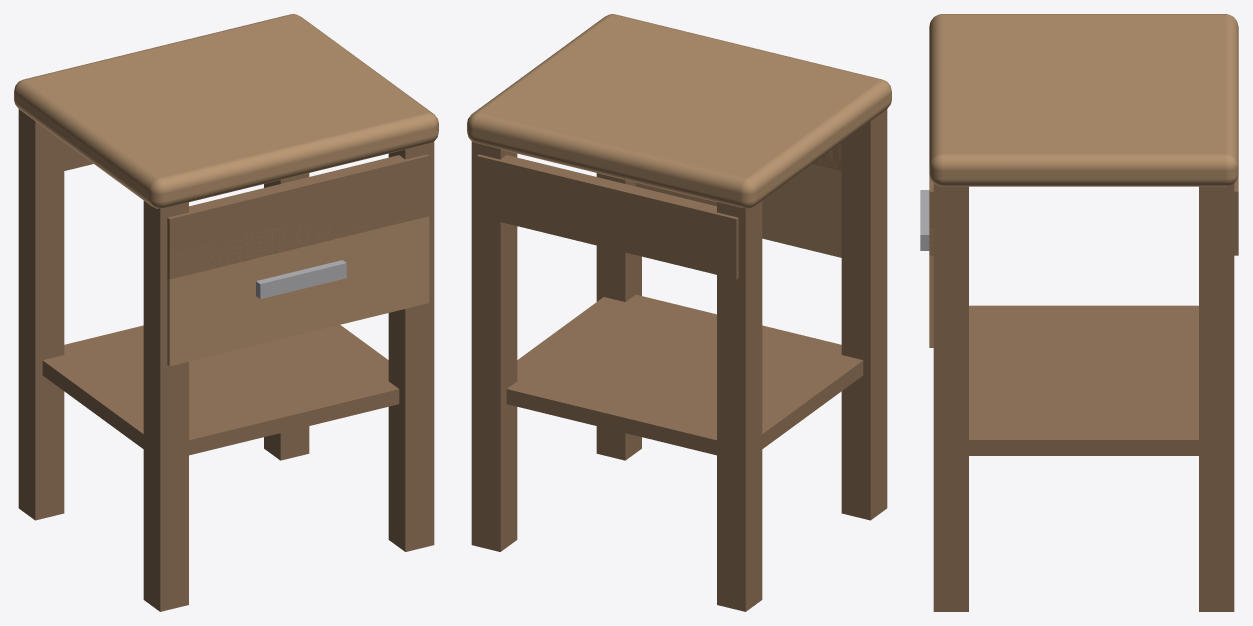
The model's file is nightstand.glb.
3 views of the same model, side by side, from view 1: azimuth 30°, elevation 25°; view 2: azimuth 150°, elevation 25°; view 3: azimuth 270°, elevation 25° (orthographic). The views are drawn at different scales.
Visible parts, largest first — view 1: top, shelf, drawer_front, apron_front, leg_bl, leg_fl, leg_fr, drawer_handle, leg_br; view 2: top, shelf, apron_back, leg_fl, leg_bl, leg_br, drawer_front, leg_fr; view 3: top, shelf, leg_br, leg_fr, drawer_handle, drawer_front.
Part boxes in pixels (x1,y1,x2,y2): top: [14, 14, 438, 208]; shelf: [42, 325, 399, 455]; drawer_front: [167, 193, 429, 366]; apron_front: [167, 154, 429, 279]; leg_bl: [18, 109, 64, 520]; leg_fl: [143, 201, 188, 611]; leg_fr: [388, 141, 434, 551]; drawer_handle: [256, 260, 346, 299]; leg_br: [264, 173, 309, 460]; top: [467, 14, 891, 208]; shelf: [506, 294, 863, 455]; apron_back: [476, 154, 738, 279]; leg_fl: [841, 109, 887, 520]; leg_bl: [717, 201, 762, 611]; leg_br: [471, 141, 517, 551]; drawer_front: [636, 144, 841, 257]; leg_fr: [596, 173, 641, 460]; top: [929, 14, 1238, 186]; shelf: [969, 305, 1198, 455]; leg_br: [1199, 183, 1234, 611]; leg_fr: [933, 183, 968, 611]; drawer_handle: [920, 190, 929, 250]; drawer_front: [929, 228, 933, 347].
Size of the model in its own units: 0.4 by 0.57 by 0.36.
